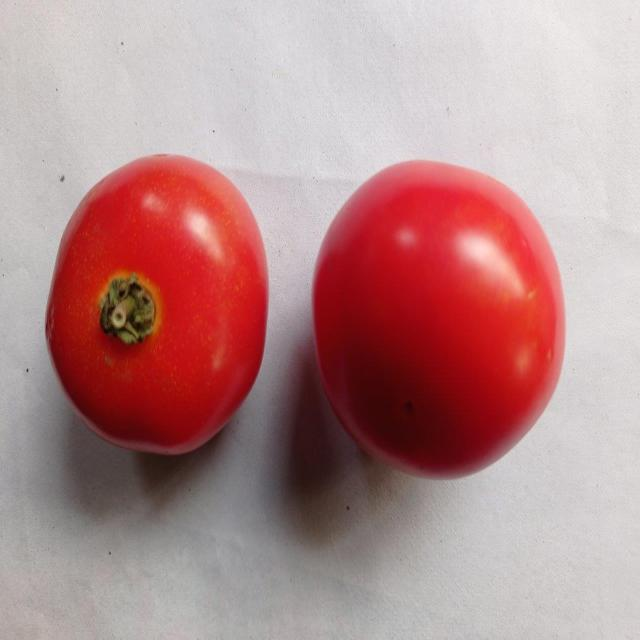Ripe: (308, 155, 572, 485), (44, 144, 271, 456)
